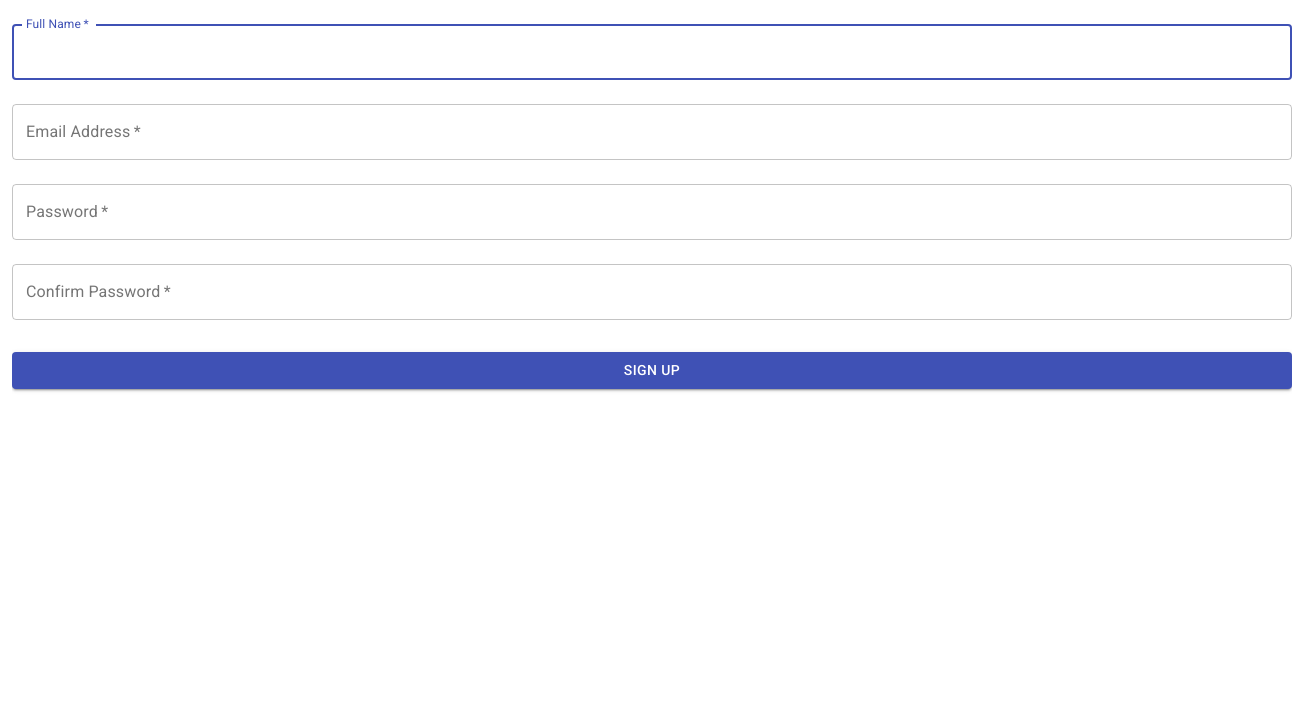
Test: Should find error message Missing required fields when one or more fields wasnt typed
Step 1. Type "test" into the field with id "name" → (652, 52), box [12,24,1292,80]
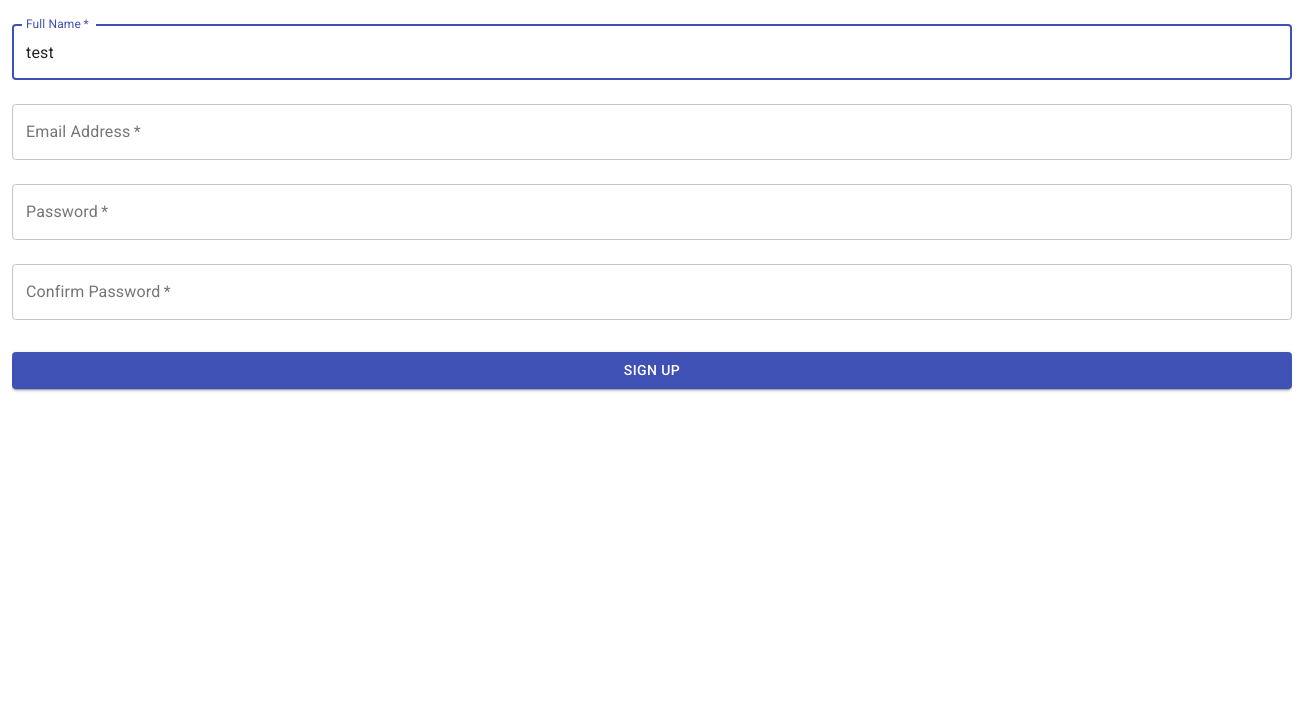
Step 2. Type "123" into the password field labelled "Password *" → (652, 212), box [12,184,1292,240]
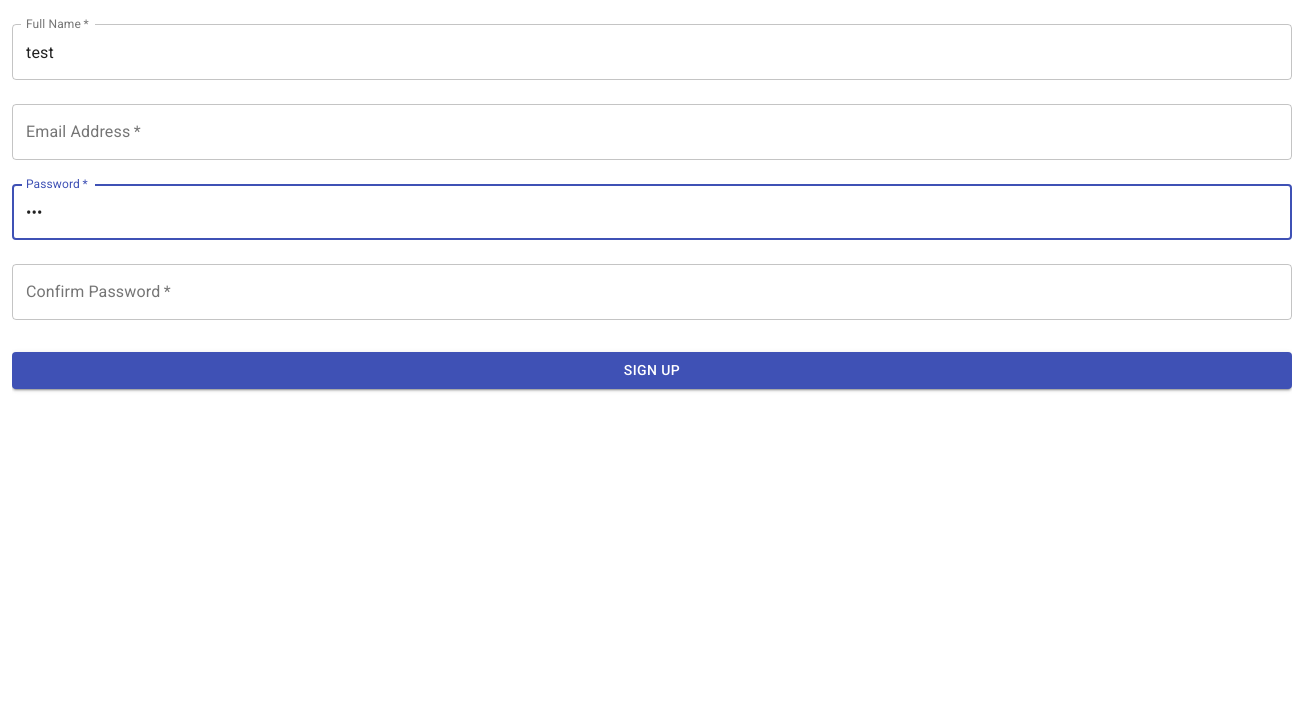
Step 3. Type "232" into the password field with id "confirmPassword" → (652, 292), box [12,264,1292,320]
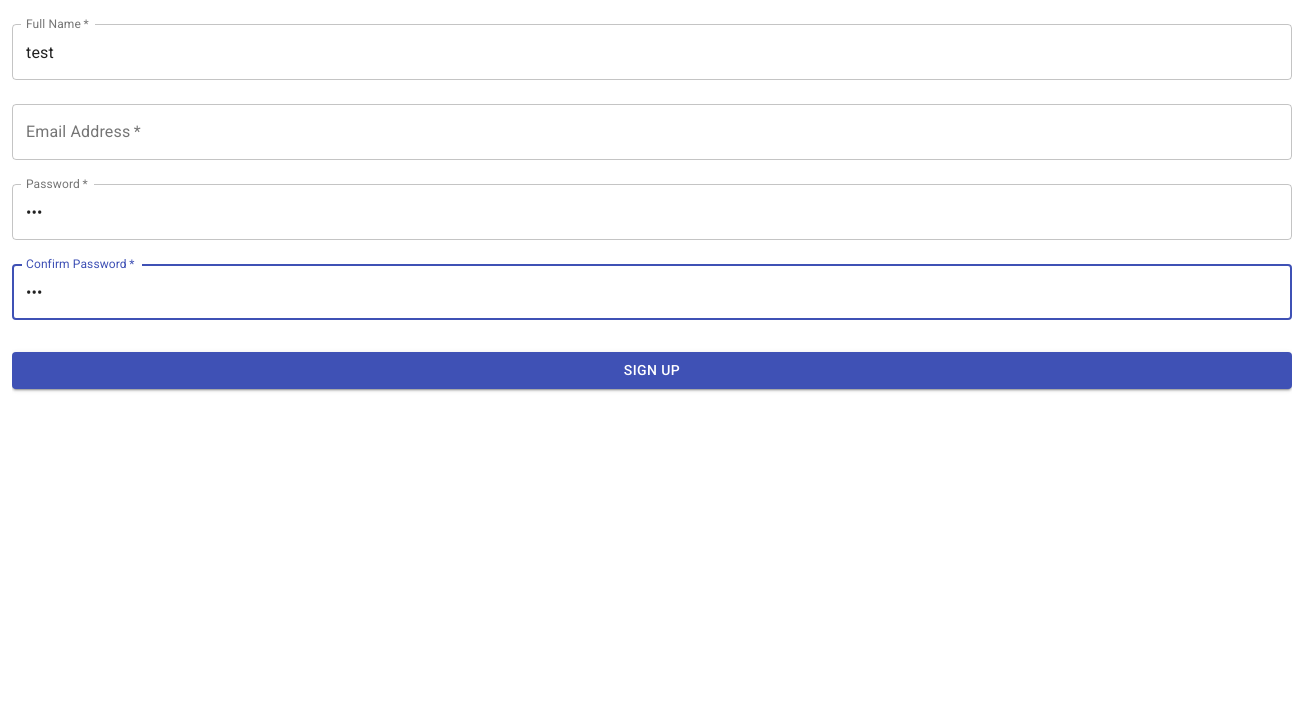
Step 4. Click the submit button → (652, 370), box [12,352,1292,388]
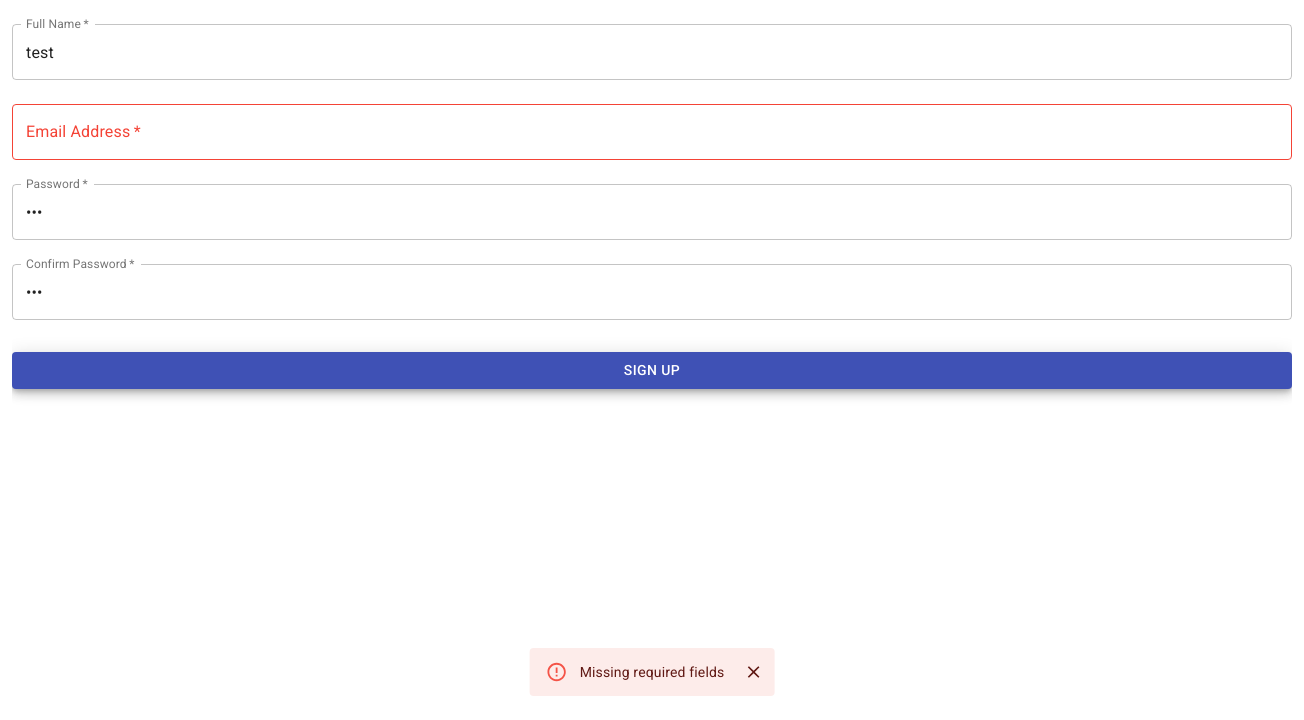
Expected: the text "Missing required fields" is shown, [580,664,724,680]
